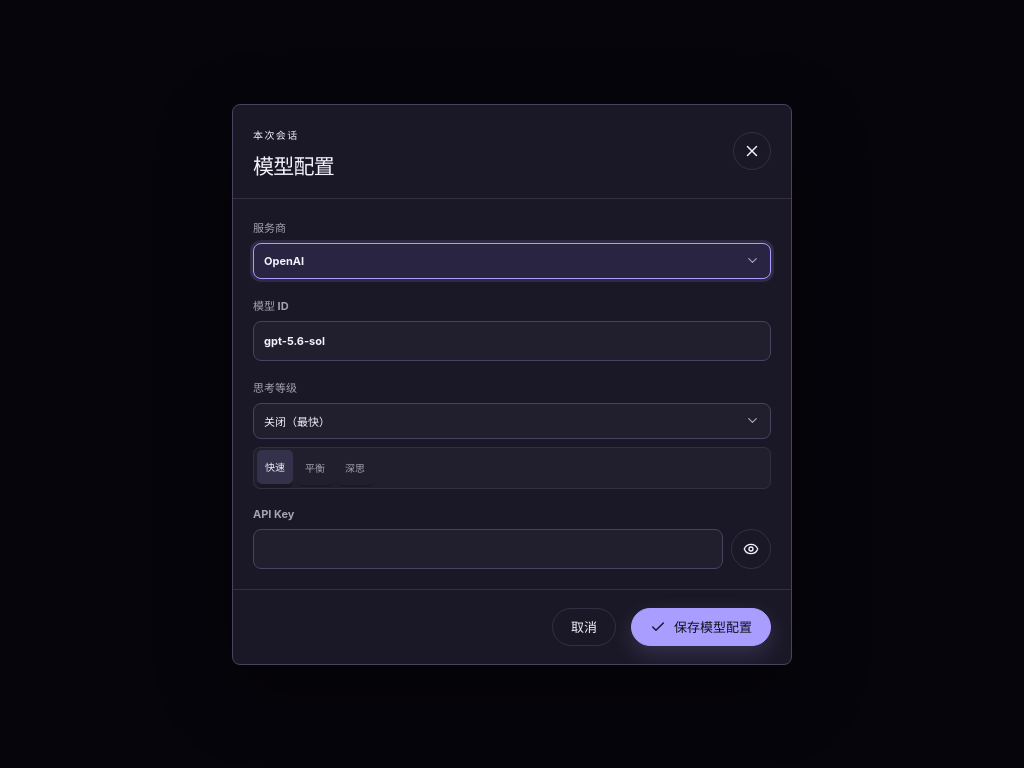
Test: ProviderDialog › erases a newly typed desktop key after a successful save
Step 1. Click the button "保存模型配置" → (701, 626), box [631, 608, 771, 646]
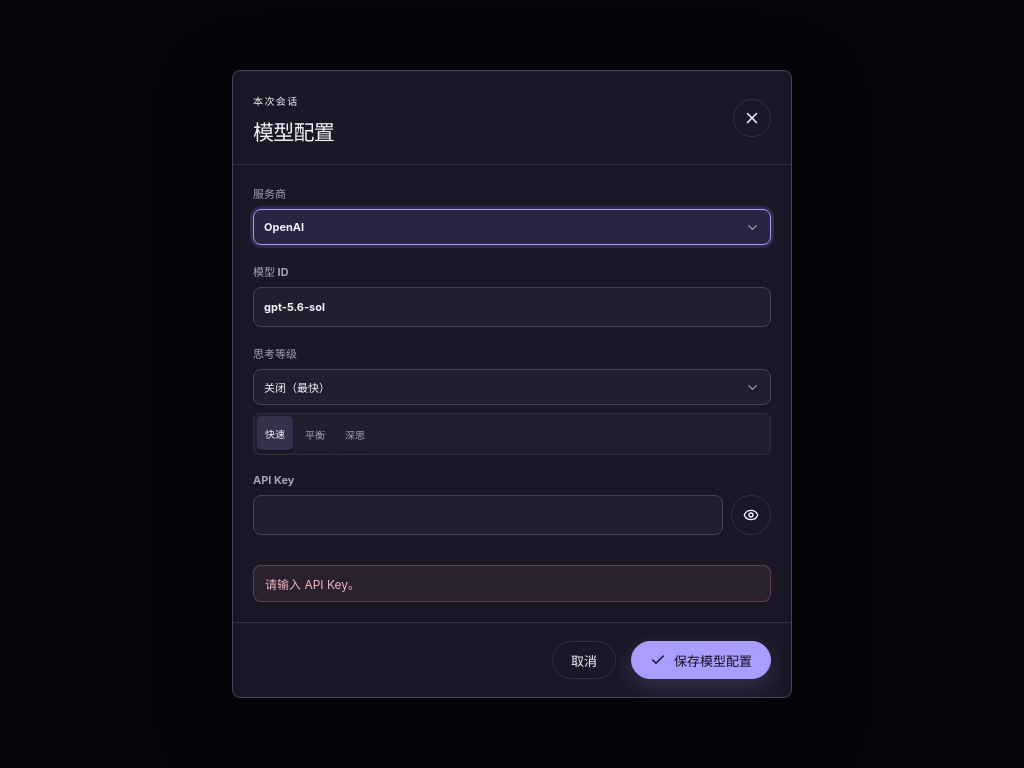
Check: the message reads "请输入 API Key。", box [265, 577, 360, 592]
Step 2. Type "sk-erase-after-save" into the password field labelled "API Key" → (488, 515), box [253, 495, 723, 535]
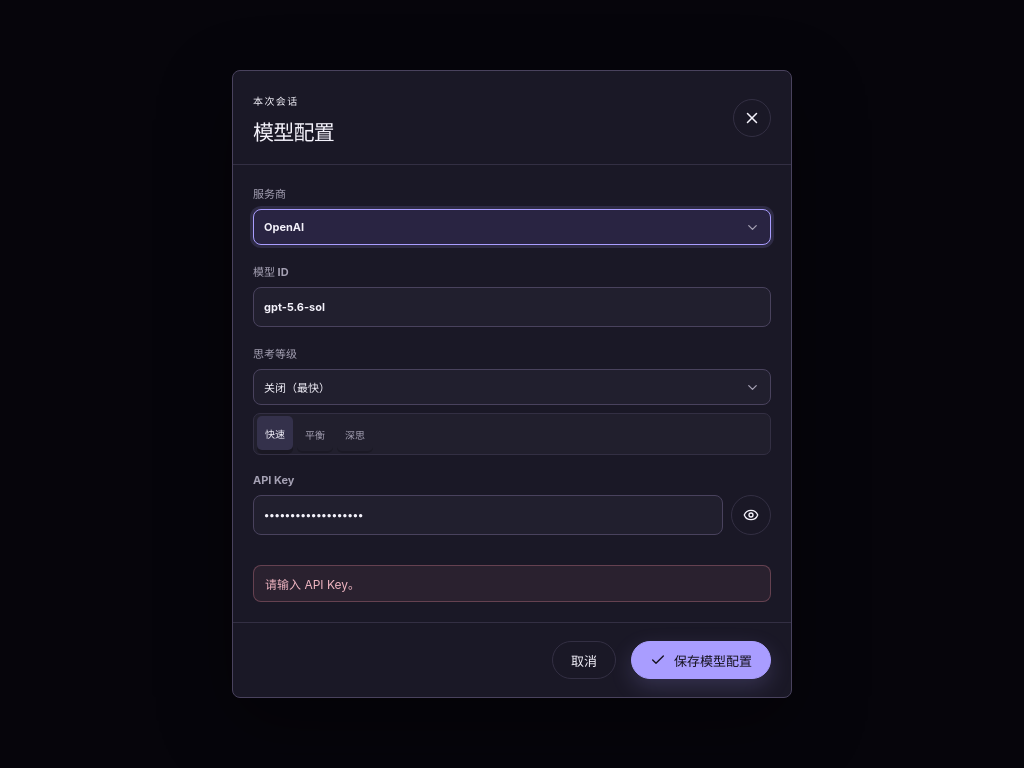
Step 3. Click the button named "显示 API Key" → (751, 515), box [731, 495, 771, 535]
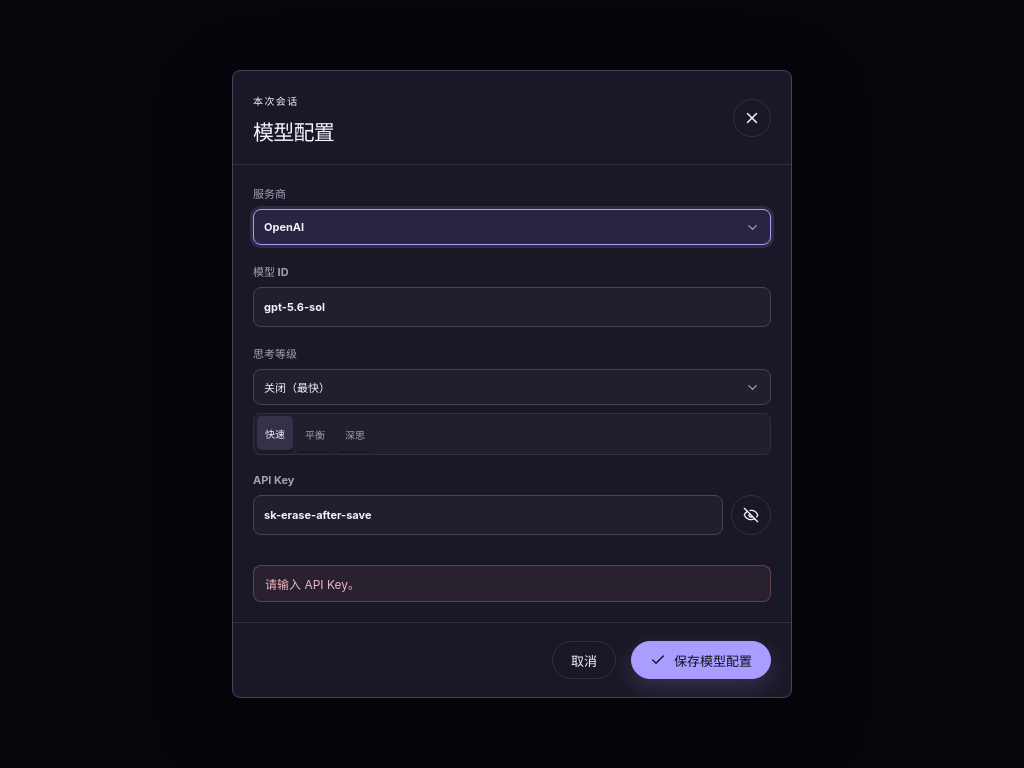
Check: the field labelled "API Key" shows its text, box [253, 495, 723, 535]
Step 4. Click the button "保存模型配置" → (701, 660), box [631, 641, 771, 679]
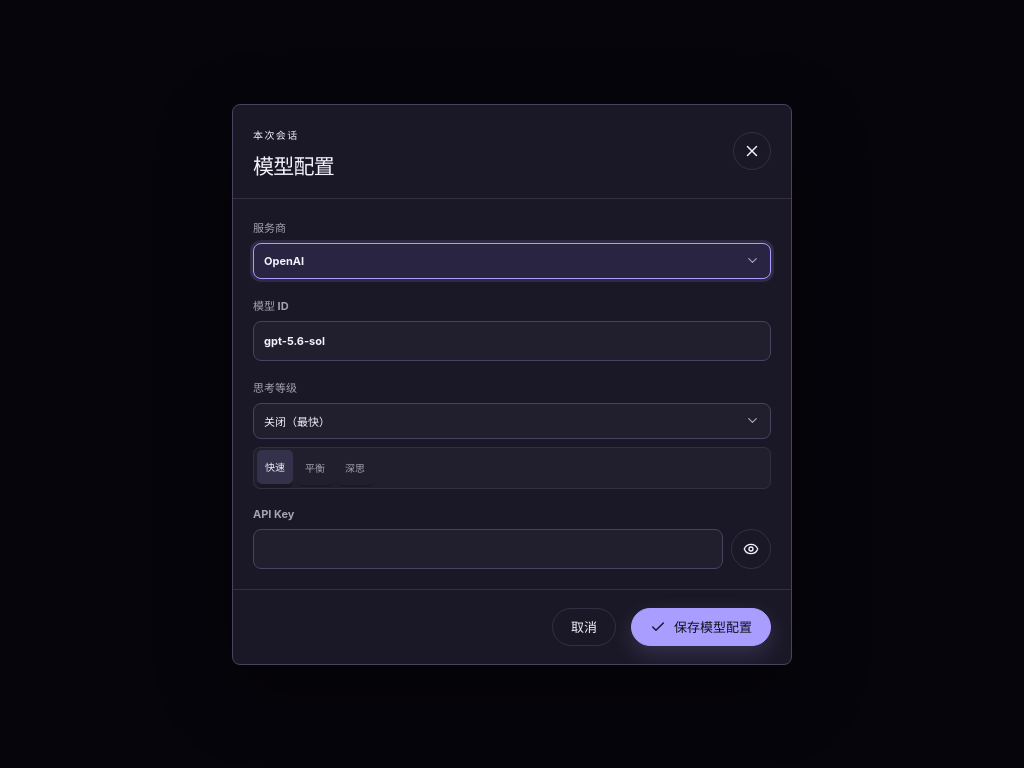
Check: the password field labelled "API Key" is empty, box [253, 528, 723, 568]
Check: the message "请输入 API Key。" is gone
